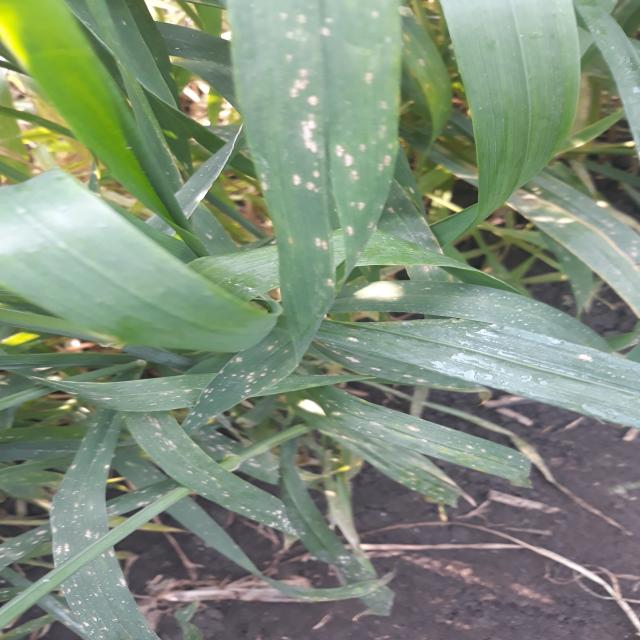powder_mildew: (229, 2, 399, 400), (141, 403, 381, 562), (13, 431, 179, 640), (297, 396, 549, 476), (416, 336, 640, 419), (0, 357, 247, 421)
